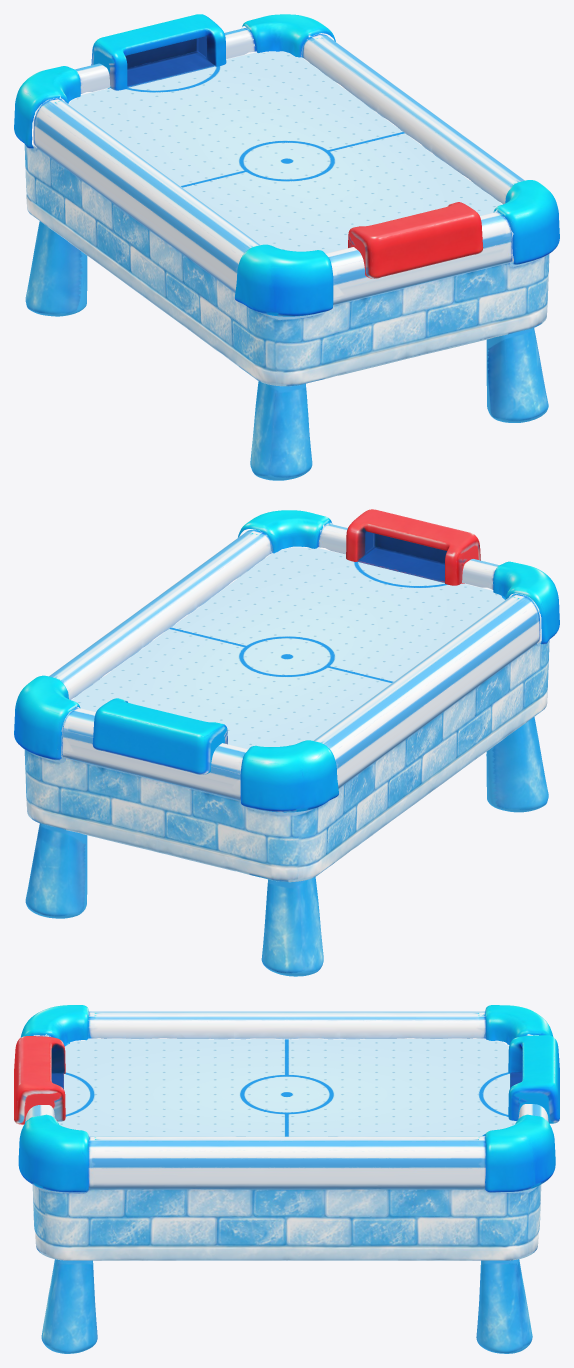
The model's file is table-frozen.glb.
3 renders of one model, top to bottom at view 1: azimuth 30°, elevation 25°; view 2: azimuth 150°, elevation 25°; view 3: azimuth 270°, elevation 25°, orthographic. The views are drawn at different scales.
Visible parts, largest first — view 1: table; view 2: table; view 3: table.
Boxes of the visible parts, <box> form: table: <box>14,14,559,480</box>; table: <box>14,509,559,976</box>; table: <box>14,1005,559,1353</box>.
Size of the model in its own units: 7.88 by 5.68 by 12.31.
Materials: 2 (2 with a texture image).
